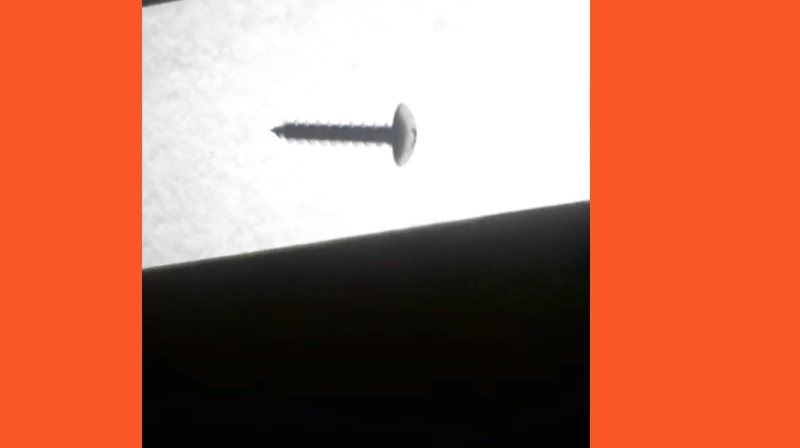S003: (267, 97, 423, 171)
